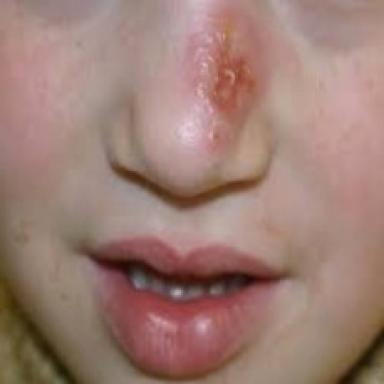Impetigo: (186, 1, 258, 148)
